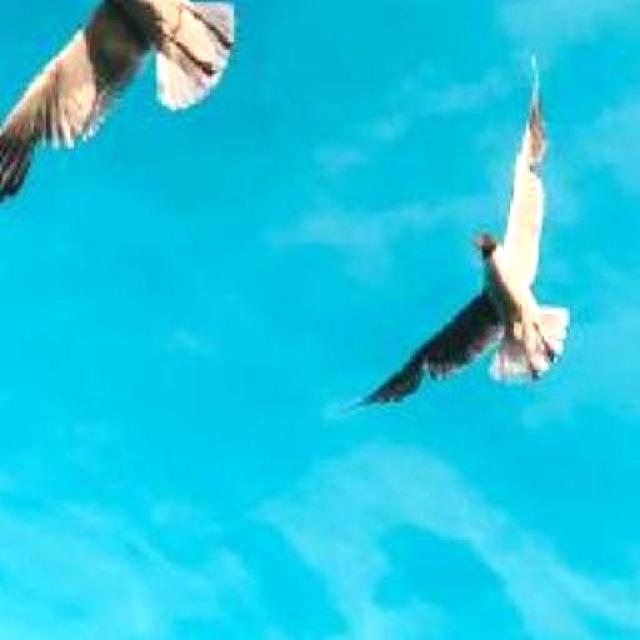airplane: (342, 48, 569, 415), (0, 0, 240, 212)
